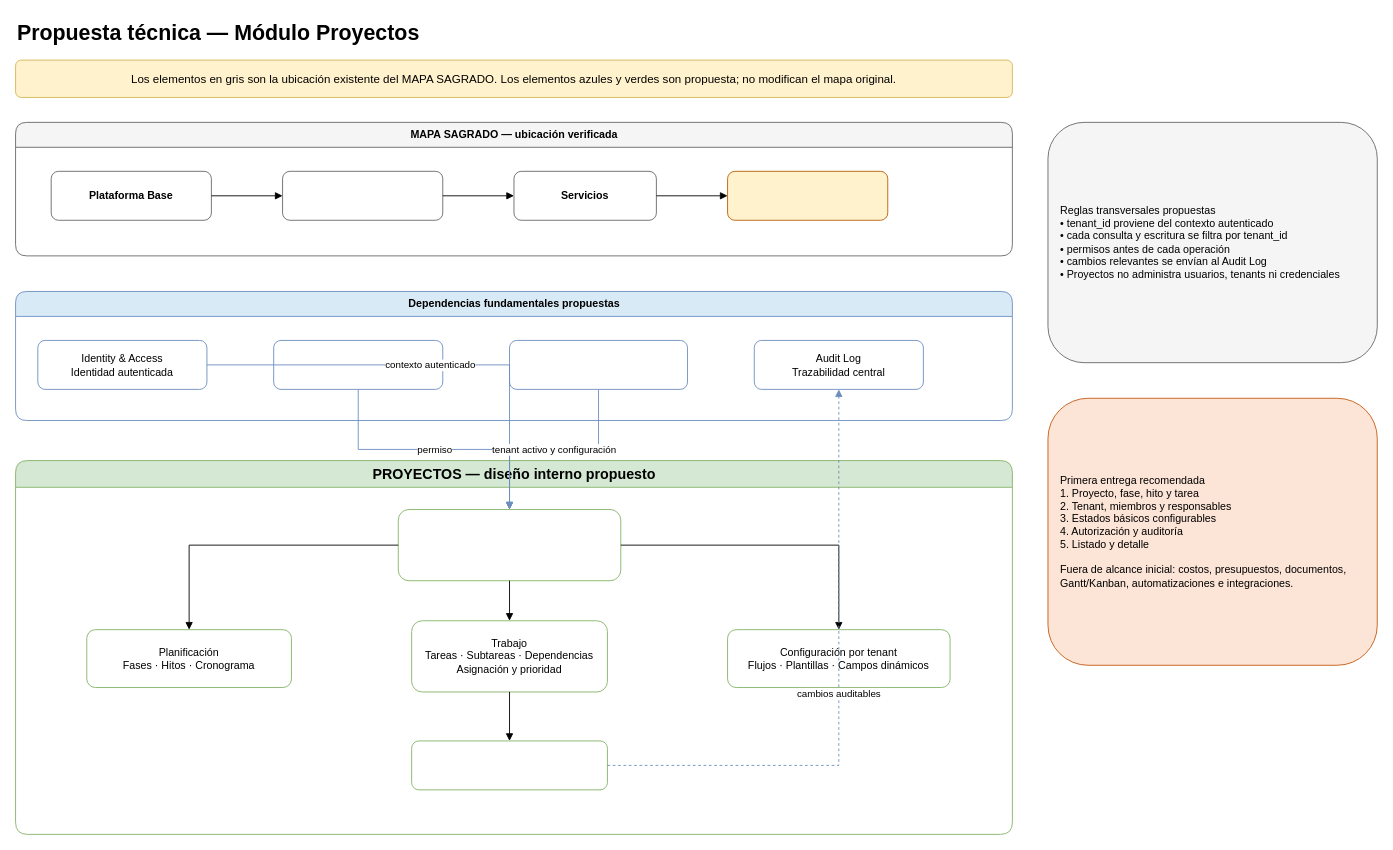
Image size: 1393x850. Some labels were removed from this diagram. Each missing label, with the centre of its shape:
"Actividad del proyecto Historial funcional e indicadores" goes at point 509,765.
"Módulos de Negocio" goes at point 362,195.
"Núcleo de Proyecto Project · Portfolio · Members Estados · Participantes" goes at point 509,545.
"Proyectos" goes at point 807,195.
"Roles & Permissions Autorización" goes at point 358,364.
"Tenant Configuration / Onboarding y Tenant" goes at point 598,364.
